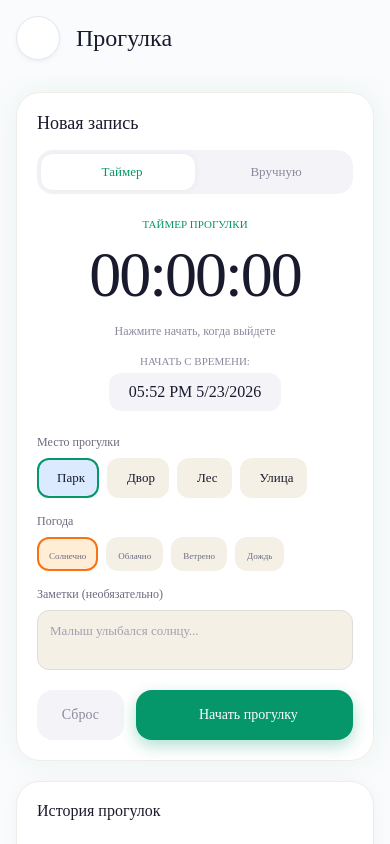
WalkScreen › renders correctly in timer mode and can start timer
The image size is (390, 844).
Expected: the text "Прогулка" is shown, [76,24,172,52]
Expected: the text "Таймер прогулки" is shown, [142,218,248,230]
Click the text "Начать прогулку" at (248, 715), box [199,707,298,723]
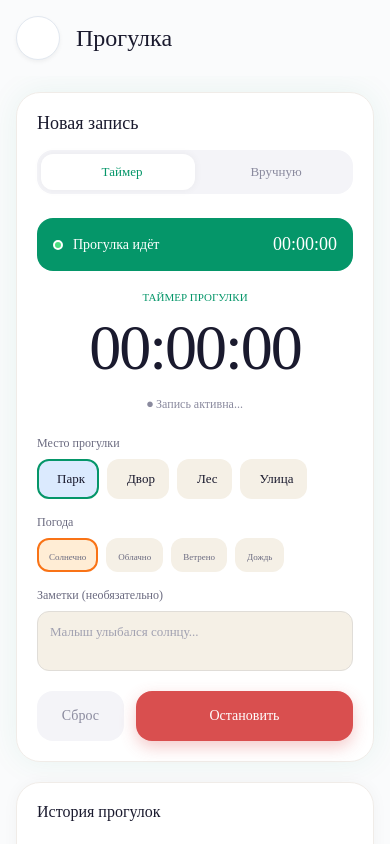
Result: the text "Остановить" is shown at [210,708,279,724]
